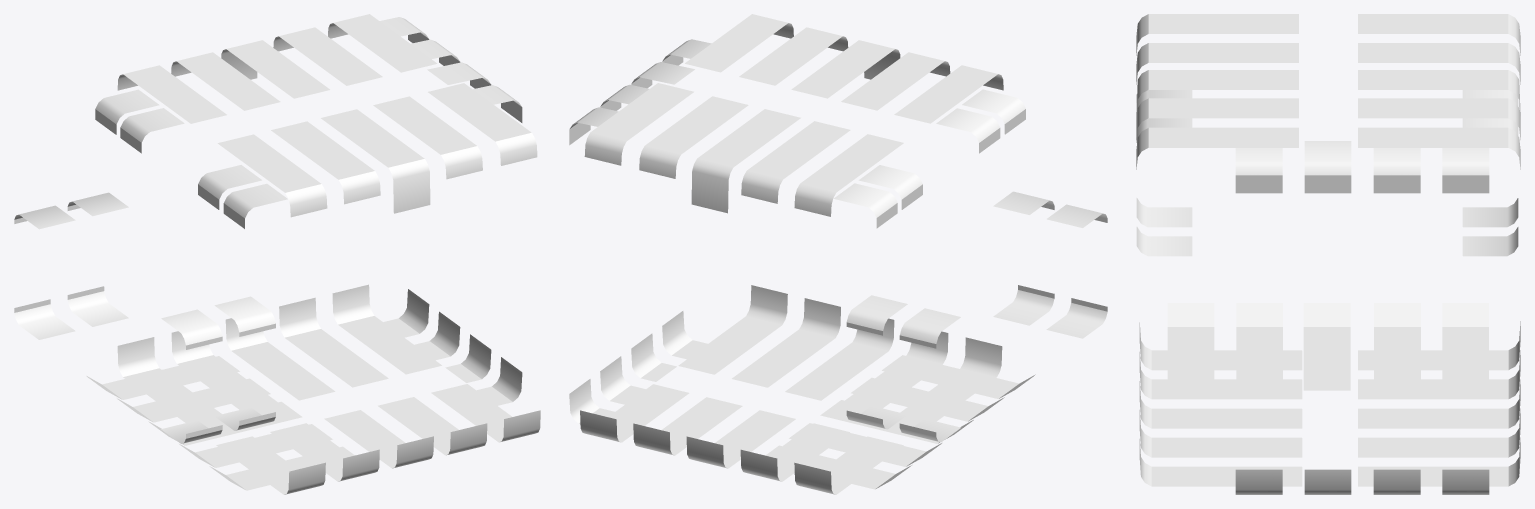
File: Air_RKN_t2.FBX
The picture shows the model from 3 angles, left to right: view 1: azimuth 30°, elevation 25°; view 2: azimuth 150°, elevation 25°; view 3: azimuth 270°, elevation 25°; orthographic projection. The views are drawn at different scales.
Visible parts, largest first — view 1: Air_RKN; view 2: Air_RKN; view 3: Air_RKN.
Part boxes in pixels (box(x1,y1,x2,y2)): Air_RKN: box(14, 14, 540, 494); Air_RKN: box(569, 14, 1107, 494); Air_RKN: box(1136, 14, 1520, 494).
Size of the model in its own units: 1.77 by 1.34 by 1.39.
